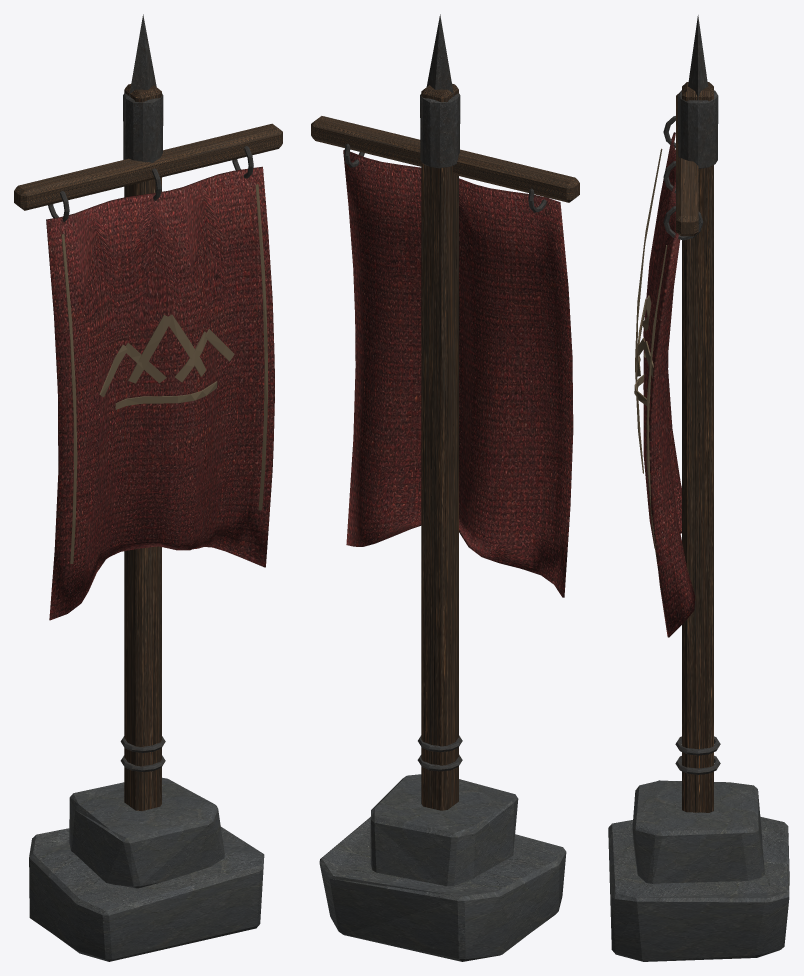
The model's file is barrosan_clan_standard_lod1.glb.
3 views of the same model, side by side, from view 1: azimuth 30°, elevation 25°; view 2: azimuth 150°, elevation 25°; view 3: azimuth 270°, elevation 25° (orthographic).
Visible parts, largest first — view 1: barrosan_clan_standard; view 2: barrosan_clan_standard; view 3: barrosan_clan_standard.
Part boxes in pixels (x1,y1,x2,y2): barrosan_clan_standard: (14,14,282,961); barrosan_clan_standard: (311,14,579,961); barrosan_clan_standard: (608,15,789,961).
Size of the model in its own units: 1.14 by 3.76 by 0.6806.
5 materials, 4 textured.
